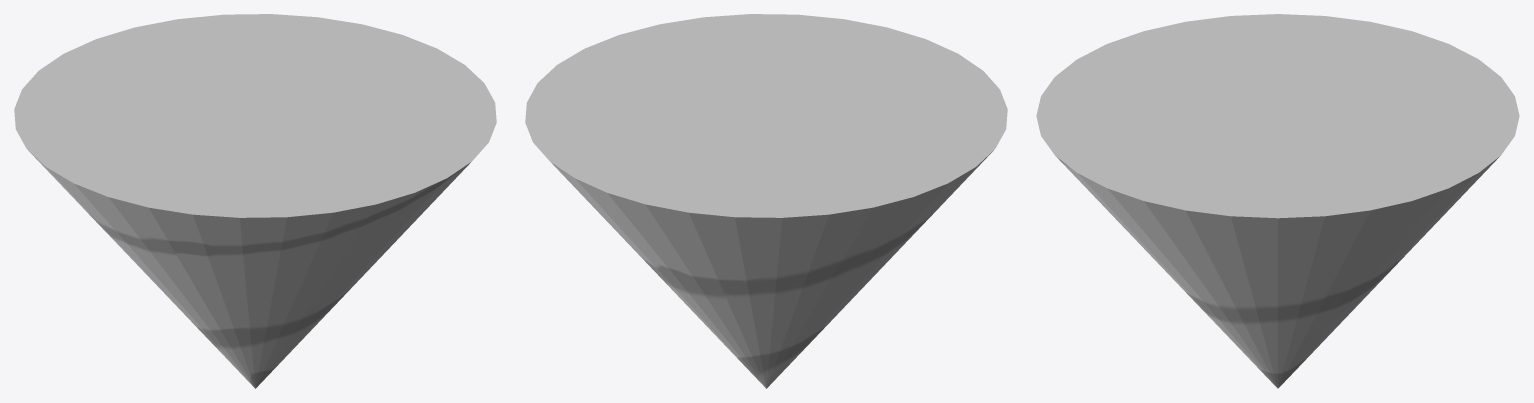
Rendered from Drill.obj.
3 renders of one model, left to right at view 1: azimuth 30°, elevation 25°; view 2: azimuth 150°, elevation 25°; view 3: azimuth 270°, elevation 25°, orthographic.
Visible parts, largest first — view 1: 円錐; view 2: 円錐; view 3: 円錐.
Part boxes in pixels (bbox=[...]): 円錐: bbox=[14, 14, 496, 388]; 円錐: bbox=[525, 14, 1007, 388]; 円錐: bbox=[1036, 14, 1519, 388].
Size of the model in its own units: 2.2 by 1.37 by 2.2.
1 material, 1 textured.
